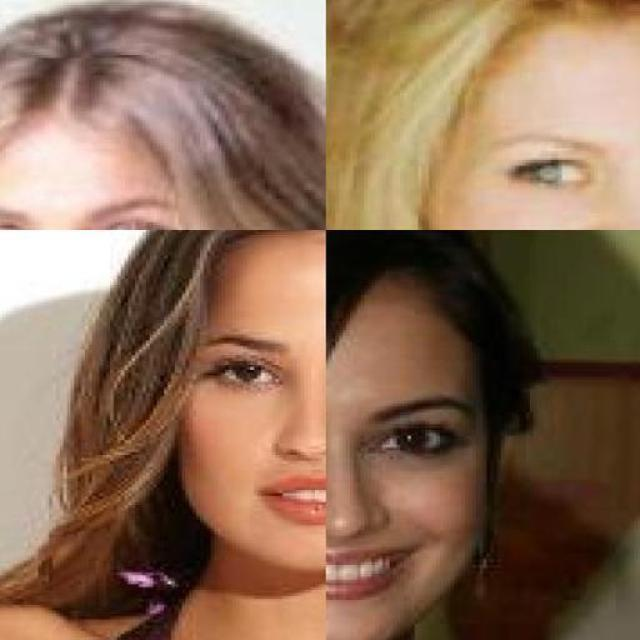bareface: (148, 240, 323, 640), (330, 261, 504, 615)
